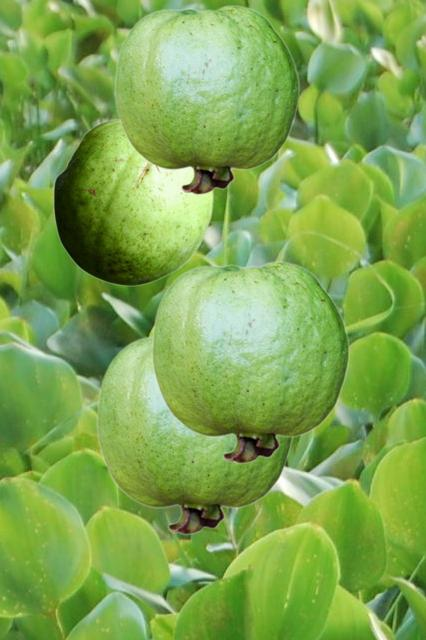guava: (151, 261, 349, 463), (96, 334, 293, 534), (114, 5, 299, 194), (53, 119, 212, 285)
